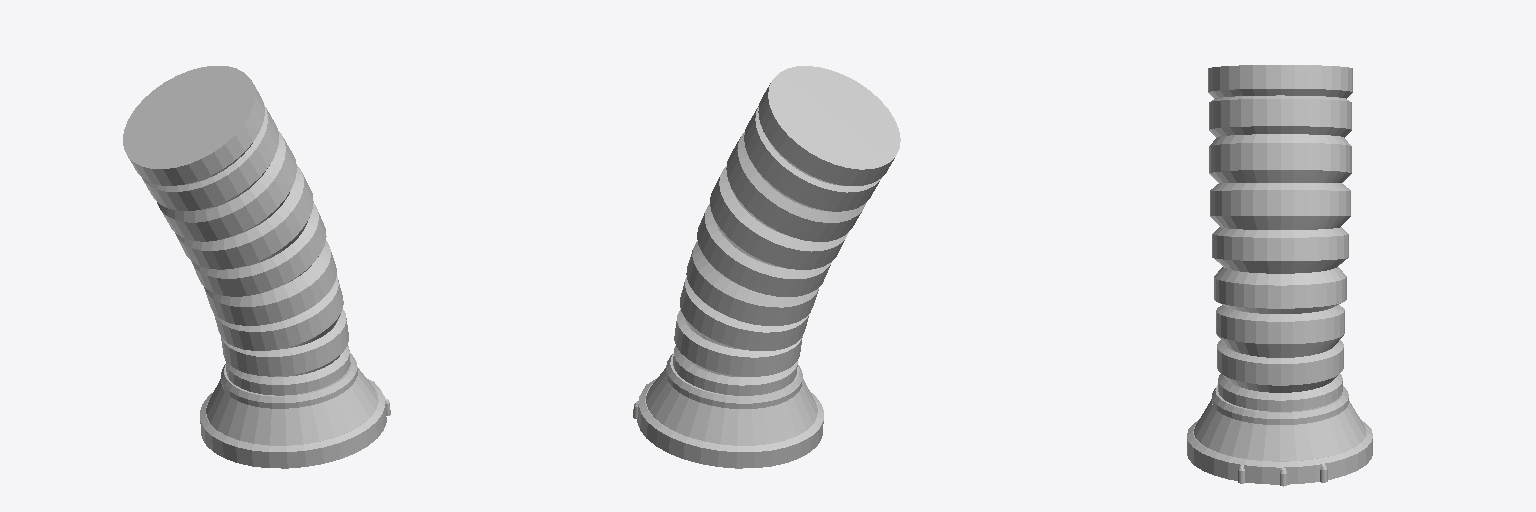
File: PataDer1.obj
3 renders of one model, left to right at view 1: azimuth 30°, elevation 25°; view 2: azimuth 150°, elevation 25°; view 3: azimuth 270°, elevation 25°, orthographic.
Parts seen in each view (by area): view 1: C_rculo, C_rculo_009_C_rculo_010, C_rculo_010_C_rculo_011, C_rculo_008_C_rculo_009; view 2: C_rculo, C_rculo_009_C_rculo_010, C_rculo_010_C_rculo_011, C_rculo_008_C_rculo_009; view 3: C_rculo, C_rculo_009_C_rculo_010, C_rculo_010_C_rculo_011, C_rculo_008_C_rculo_009.
Boxes of the visible parts, x1=… form: C_rculo: x1=123, y1=66, x2=350, y2=395; C_rculo_009_C_rculo_010: x1=206, y1=367, x2=377, y2=445; C_rculo_010_C_rculo_011: x1=200, y1=379, x2=386, y2=468; C_rculo_008_C_rculo_009: x1=221, y1=353, x2=357, y2=408; C_rculo: x1=673, y1=66, x2=900, y2=395; C_rculo_009_C_rculo_010: x1=646, y1=368, x2=817, y2=445; C_rculo_010_C_rculo_011: x1=637, y1=379, x2=823, y2=468; C_rculo_008_C_rculo_009: x1=666, y1=353, x2=802, y2=408; C_rculo: x1=1208, y1=65, x2=1352, y2=411; C_rculo_009_C_rculo_010: x1=1194, y1=399, x2=1365, y2=461; C_rculo_010_C_rculo_011: x1=1187, y1=420, x2=1372, y2=484; C_rculo_008_C_rculo_009: x1=1212, y1=385, x2=1348, y2=424.
Size of the model in its own units: 1.56 by 2.26 by 1.03.